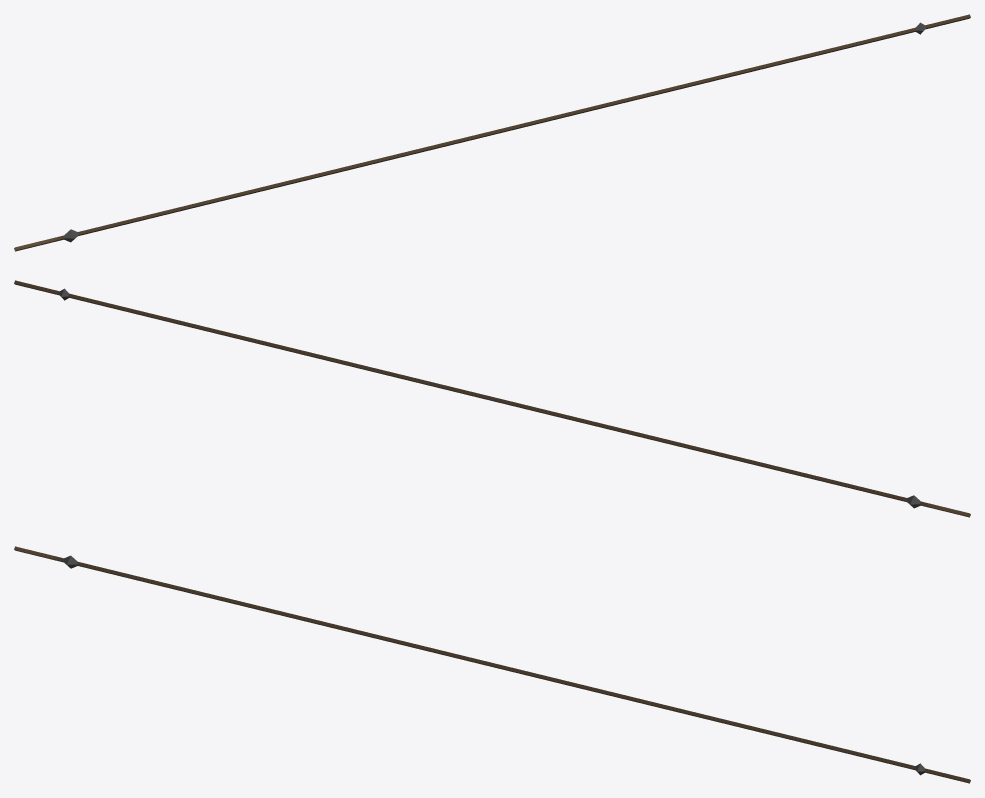
Rendered from ZLP_Build_F_23.FBX.
3 views of the same model, one above another, from view 1: azimuth 30°, elevation 25°; view 2: azimuth 150°, elevation 25°; view 3: azimuth 330°, elevation 25° (orthographic).
Parts seen in each view (by area): view 1: ZLP_Build_F_23; view 2: ZLP_Build_F_23; view 3: ZLP_Build_F_23.
Part boxes in pixels (box(x1,y1,x2,y2)): ZLP_Build_F_23: box(14, 14, 970, 251); ZLP_Build_F_23: box(14, 280, 970, 517); ZLP_Build_F_23: box(14, 546, 970, 783).
Size of the model in its own units: 1212 by 16.16 by 16.16.
